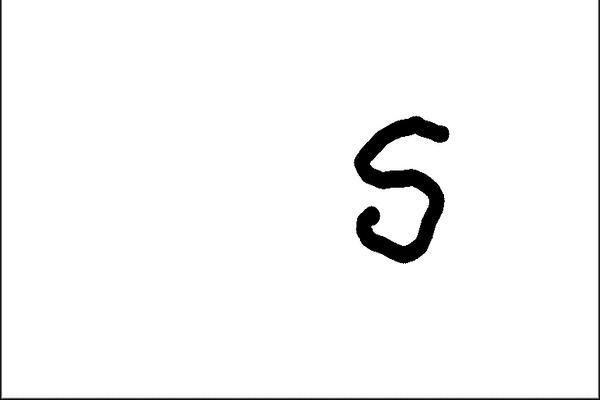S: (342, 109, 458, 269)
